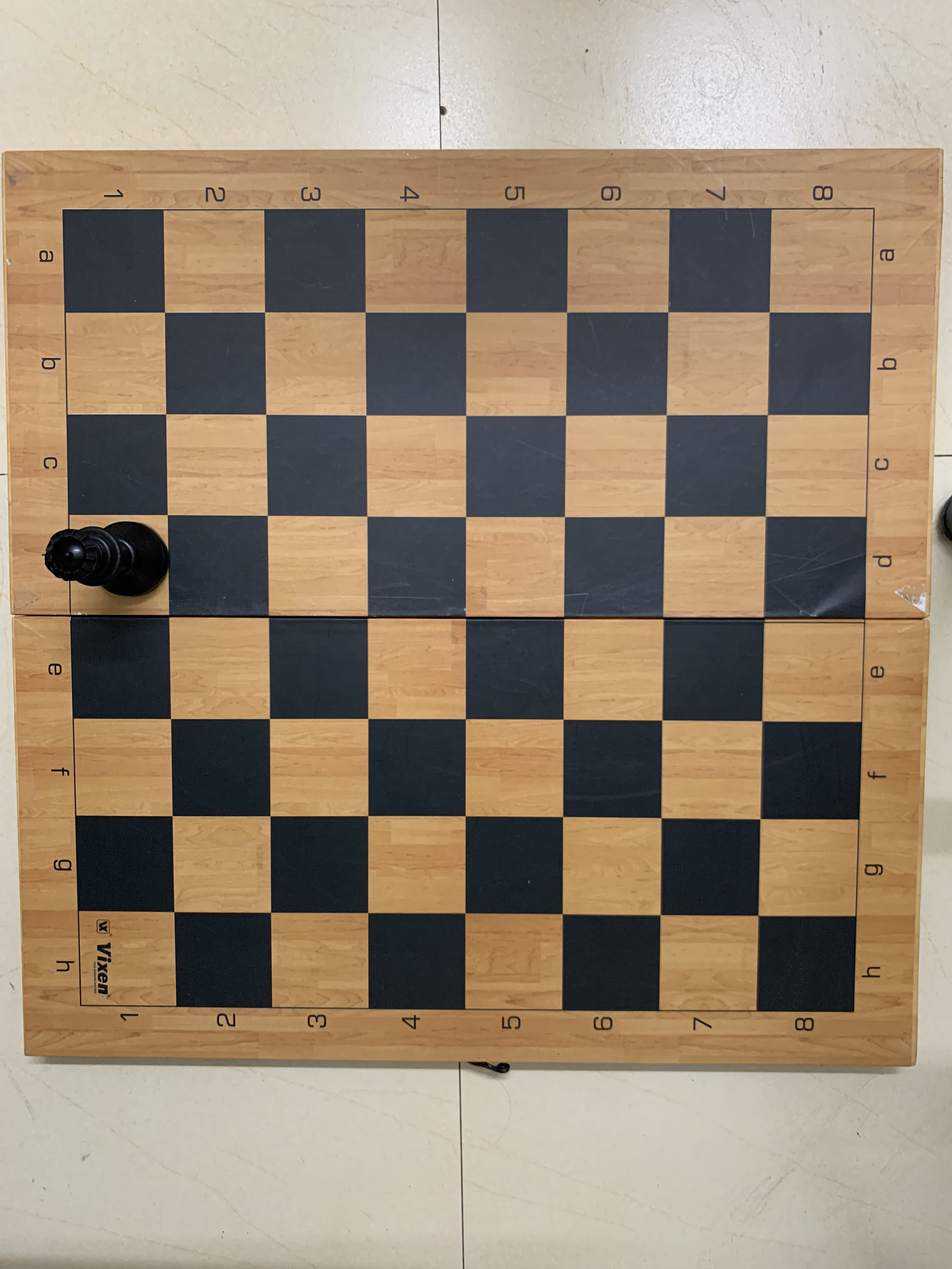black_queen: (41, 509, 181, 619)
